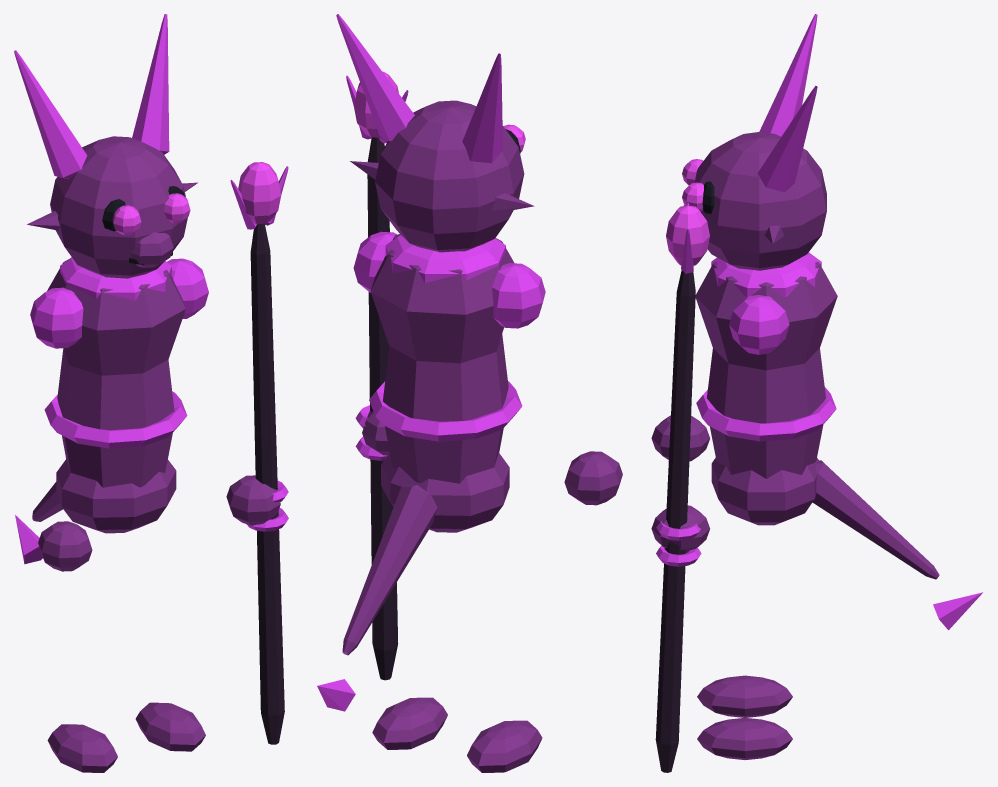
The model's file is imp_shaman_body.obj.
The picture shows the model from 3 angles, left to right: view 1: azimuth 30°, elevation 25°; view 2: azimuth 150°, elevation 25°; view 3: azimuth 270°, elevation 25°; orthographic projection. The views are drawn at different scales.
Visible parts, largest first — view 1: torso, head, staff_shaft, pelvis, horn_L, sash, horn_R, shoulder_L, foot_R, foot_L, collar, hand_L (+8 smaller); view 2: torso, head, staff_shaft, tail, pelvis, sash, collar, horn_R, foot_R, foot_L, shoulder_L, horn_L (+5 smaller); view 3: torso, head, staff_shaft, pelvis, tail, foot_L, foot_R, sash, shoulder_R, horn_R, horn_L, collar (+5 smaller).
Boxes of the visible parts, bbox=[...] form: torso: bbox=[47, 259, 185, 487]; head: bbox=[50, 136, 187, 278]; staff_shaft: bbox=[250, 223, 284, 744]; pelvis: bbox=[56, 459, 176, 533]; horn_L: bbox=[14, 50, 87, 179]; sash: bbox=[44, 391, 187, 448]; horn_R: bbox=[132, 14, 169, 154]; shoulder_L: bbox=[30, 287, 83, 348]; foot_R: bbox=[135, 702, 205, 751]; foot_L: bbox=[47, 724, 117, 772]; collar: bbox=[60, 257, 171, 300]; hand_L: bbox=[38, 521, 92, 571]; torso: bbox=[370, 234, 514, 483]; head: bbox=[375, 100, 524, 252]; staff_shaft: bbox=[367, 137, 398, 680]; tail: bbox=[342, 485, 437, 655]; pelvis: bbox=[381, 453, 509, 532]; sash: bbox=[369, 381, 522, 441]; collar: bbox=[385, 234, 505, 282]; horn_R: bbox=[336, 14, 414, 141]; foot_R: bbox=[372, 697, 447, 749]; foot_L: bbox=[467, 720, 542, 772]; shoulder_L: bbox=[492, 263, 545, 328]; horn_L: bbox=[462, 53, 502, 163]; torso: bbox=[695, 262, 837, 478]; head: bbox=[694, 132, 826, 270]; staff_shaft: bbox=[655, 270, 695, 772]; pelvis: bbox=[711, 457, 819, 525]; tail: bbox=[812, 460, 939, 579]; foot_L: bbox=[697, 675, 792, 717]; foot_R: bbox=[697, 717, 792, 759]; sash: bbox=[696, 387, 836, 441]; shoulder_R: bbox=[729, 295, 789, 354]; horn_R: bbox=[757, 86, 817, 192]; horn_L: bbox=[759, 14, 817, 136]; collar: bbox=[711, 252, 821, 297].
Bounding box in the file's own units: 0.7227 × 1.92 × 0.8446.
